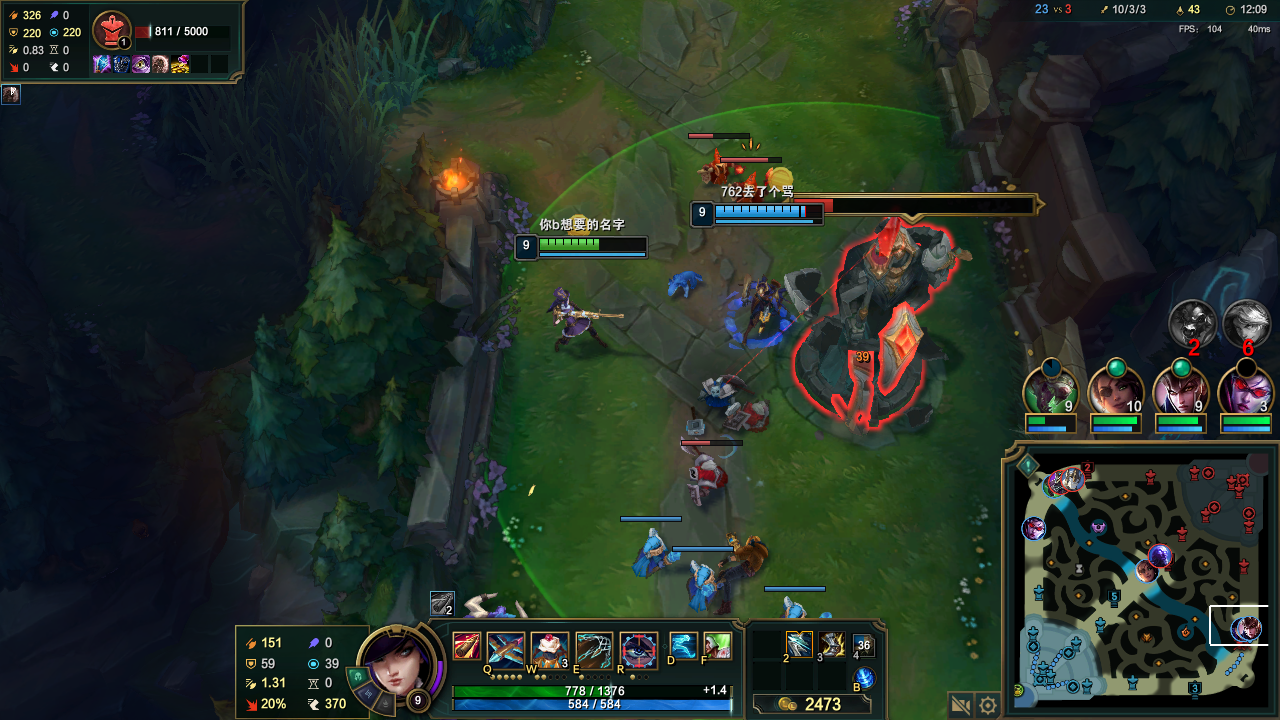DFFYT: (790, 200, 977, 443)
DFXB: (693, 460, 727, 491), (739, 177, 768, 204), (697, 155, 728, 180)
WFXB: (688, 566, 722, 606), (635, 540, 672, 566), (781, 598, 806, 620)
